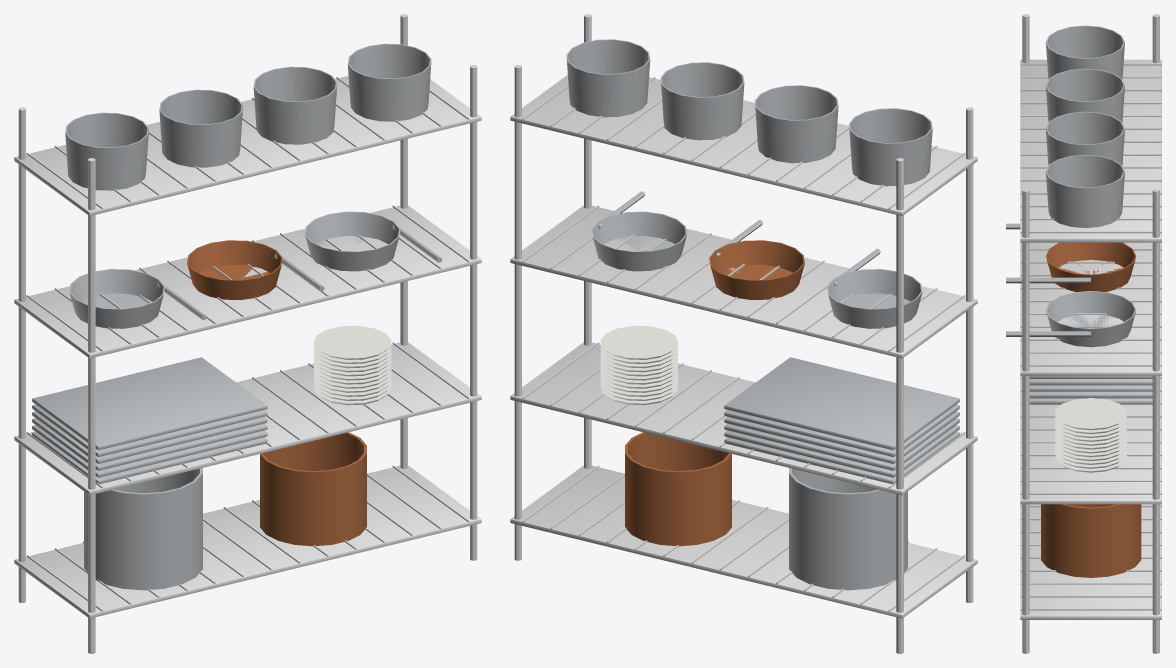
The model's file is pot_shelf.glb.
3 renders of one model, left to right at view 1: azimuth 30°, elevation 25°; view 2: azimuth 150°, elevation 25°; view 3: azimuth 270°, elevation 25°, orthographic. The views are drawn at different scales.
Parts seen in each view (by area): view 1: pot_shelf; view 2: pot_shelf; view 3: pot_shelf.
Boxes of the visible parts, left/top/right/bottom form: pot_shelf: left=14, top=14, right=481, bottom=653; pot_shelf: left=510, top=14, right=977, bottom=653; pot_shelf: left=1006, top=14, right=1161, bottom=653.
Bounding box in the file's own units: 1.5 × 1.8 × 0.55.
